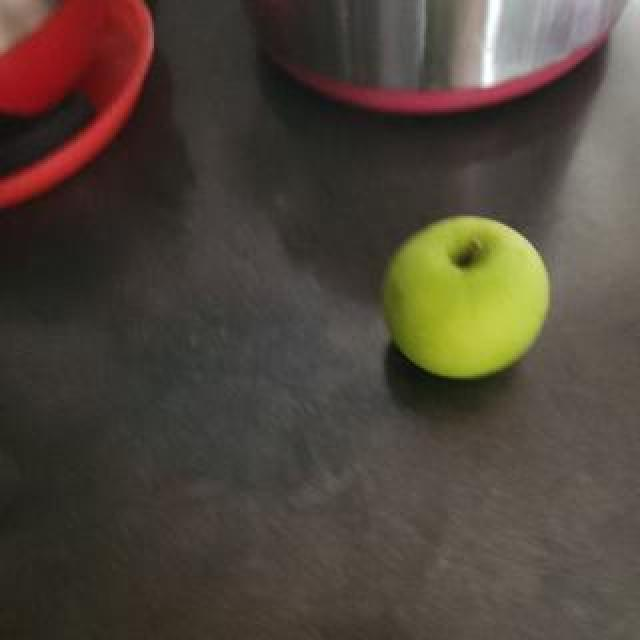Fresh Apple: (389, 229, 549, 376)
